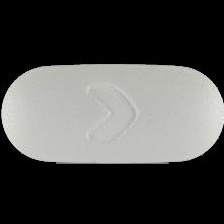67296-0580: (0, 0, 224, 224)
